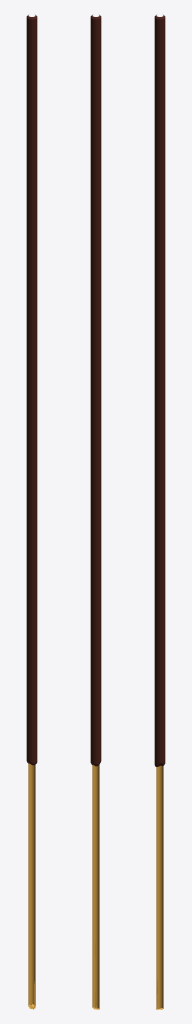
The model's file is pocky_choco1.gltf.
3 renders of one model, left to right at view 1: azimuth 90°, elevation 25°; view 2: azimuth 210°, elevation 25°; view 3: azimuth 270°, elevation 25°, orthographic.
Visible parts, largest first — view 1: Cylinder.001, core.001_Cylinder.003; view 2: Cylinder.001, core.001_Cylinder.003; view 3: Cylinder.001, core.001_Cylinder.003.
Part boxes in pixels (x1,y1,x2,y2): Cylinder.001: (26,15,37,765); core.001_Cylinder.003: (28,763,35,1009); Cylinder.001: (90,15,101,766); core.001_Cylinder.003: (92,764,99,1009); Cylinder.001: (154,15,165,766); core.001_Cylinder.003: (156,766,163,1009).
Size of the model in its own units: 0.4267 by 42.77 by 0.4267.
